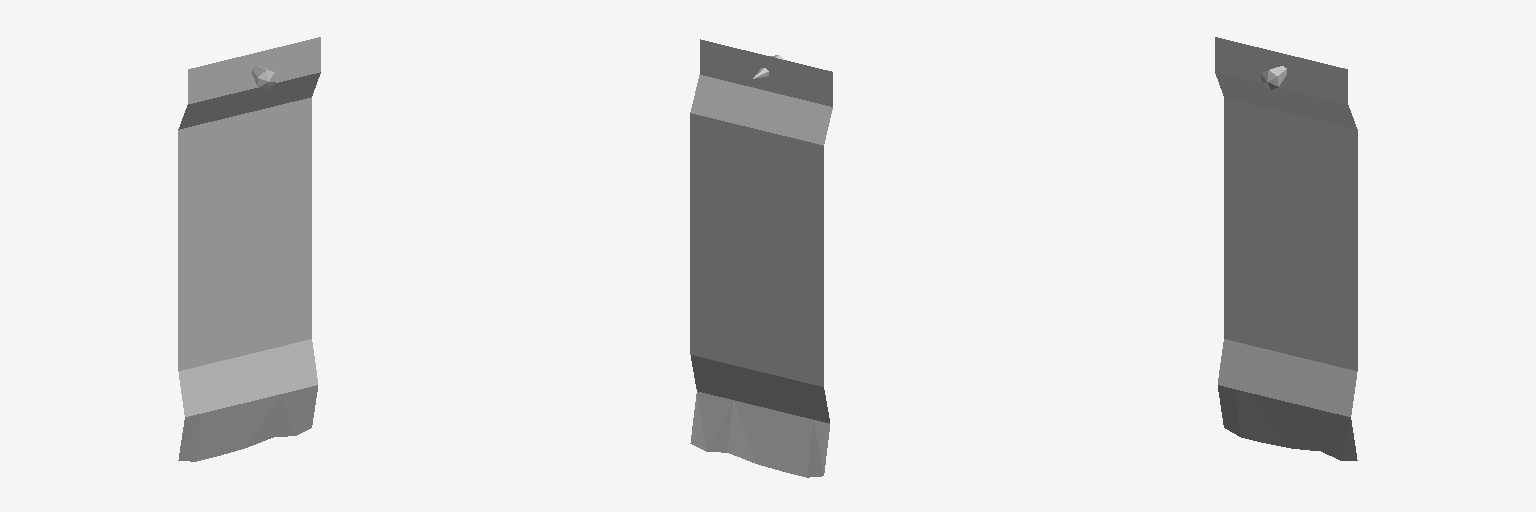
Rendered from banner_thin_white.obj.
3 views of the same model, side by side, from view 1: azimuth 30°, elevation 25°; view 2: azimuth 150°, elevation 25°; view 3: azimuth 330°, elevation 25° (orthographic).
Parts seen in each view (by area): view 1: banner_thin_white_Cube.15618; view 2: banner_thin_white_Cube.15618; view 3: banner_thin_white_Cube.15618.
Part boxes in pixels (left/top/right/bottom): banner_thin_white_Cube.15618: left=178, top=37, right=320, bottom=461; banner_thin_white_Cube.15618: left=690, top=39, right=832, bottom=477; banner_thin_white_Cube.15618: left=1215, top=37, right=1357, bottom=460.
Bounding box in the file's own units: 1.1 × 3.17 × 0.3623.